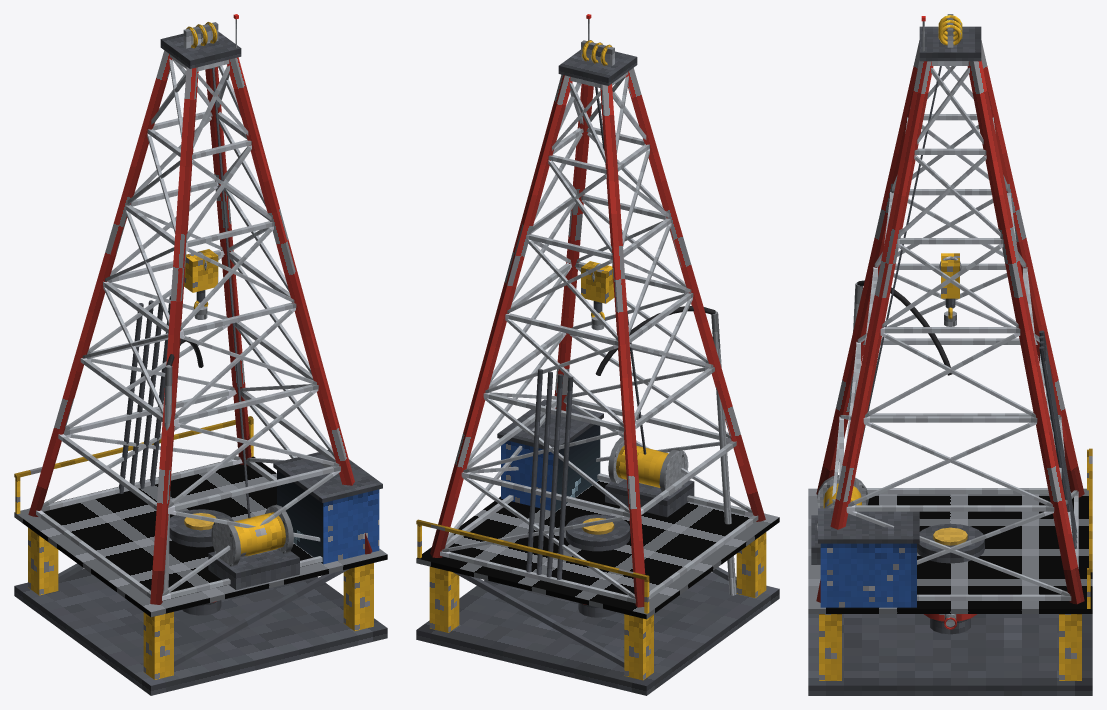
The model's file is oil_derrick.obj.
The picture shows the model from 3 angles, left to right: view 1: azimuth 30°, elevation 25°; view 2: azimuth 150°, elevation 25°; view 3: azimuth 270°, elevation 25°; orthographic projection. The views are drawn at different scales.
Size of the model in its own units: 0.4088 by 1 by 0.4088.
